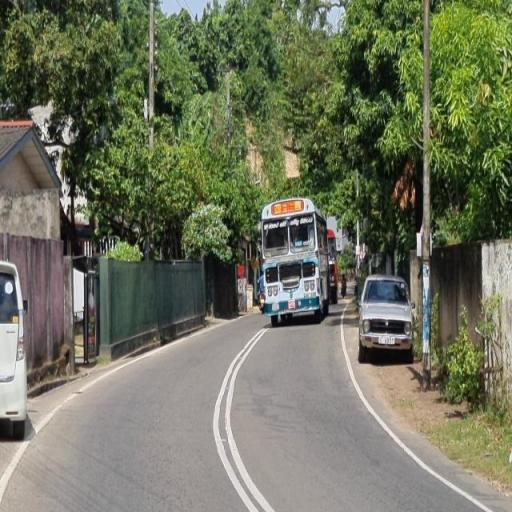double_white_line: (338, 319, 494, 511), (213, 320, 272, 512)
